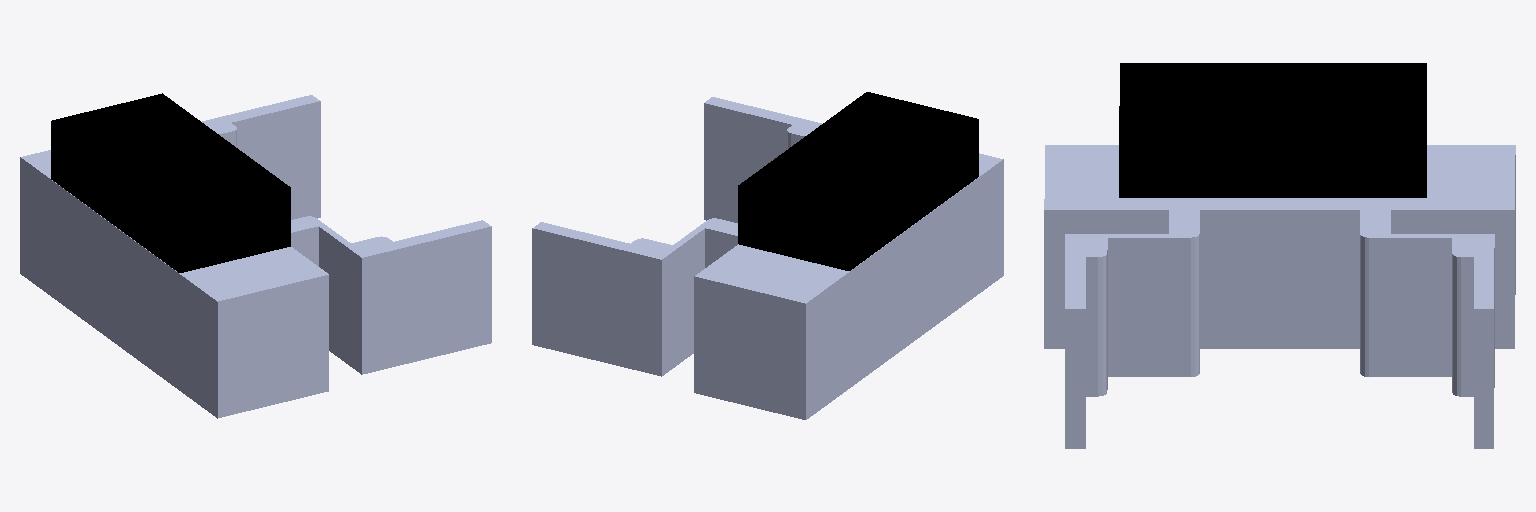
The robot description file, URDF, robot "kuka_kr10r1420":
<?xml version="1.0" ?>
<robot name="kuka_kr10r1420">

<!--LINKS-->

<!--Base link-->
<link name="base_link">
    <visual>
        <origin rpy="0 0 0" xyz="0 0 0" />
        <geometry>
            <mesh filename="package://kuka_kr10_support/meshes/kr10r1420/visual/base_link.stl" />
        </geometry>
        <material name="">
            <color rgba="0.054901960784313725 0.054901960784313725 0.06274509803921569 1.0" />
        </material>
    </visual>
    <collision>
        <origin rpy="0 0 0" xyz="0 0 0" />
        <geometry>
            <mesh filename="package://kuka_kr10_support/meshes/kr10r1420/collision/base_link.stl" />
        </geometry>
    </collision>        
    <inertial>
        <mass value="52.6664" />
        <origin rpy="0 0 0" xyz="-0.024332 -0.000227 0.124659" />
        <inertia ixx="0.6474" iyy="-0.002261" izz="-0.0148" ixy="0.8089" ixz="-0.0005985" iyz="0.8872" />
    </inertial>
</link>  

<!--Link 1-->
<link name="link_1">
    <visual>
        <origin rpy="0 0 0" xyz="0 0 0" />
        <geometry>
            <mesh filename="package://kuka_kr10_support/meshes/kr10r1420/visual/link_1.stl" />
        </geometry>
        <material name="">
            <color rgba="0.9647058823529412 0.47058823529411764 0.1568627450980392 1.0" />
        </material>
    </visual>
    <collision>
        <origin rpy="0 0 0" xyz="0 0 0" />
        <geometry>
            <mesh filename="package://kuka_kr10_support/meshes/kr10r1420/collision/link_1.stl" />
        </geometry>
    </collision>
    <inertial>
        <mass value="64.7425" />
        <origin rpy="0 0 0" xyz="0.030634 0.027021 -0.054840" />
        <inertia ixx="1.0225" ixy="-0.008725" ixz="-0.02372" iyy="1.0808" iyz="-0.03267" izz="1.1400" />
    </inertial>
</link>

<!--Link 2-->
<link name="link_2">
    <visual>
        <origin rpy="0 0 0" xyz="0 0 0" />
        <geometry>
            <mesh filename="package://kuka_kr10_support/meshes/kr10r1420/visual/link_2.stl" />
        </geometry>
        <material name="">
            <color rgba="0.9647058823529412 0.47058823529411764 0.1568627450980392 1.0" />
        </material>
    </visual>
    <collision>
        <origin rpy="0 0 0" xyz="0 0 0" />
        <geometry>
            <mesh filename="package://kuka_kr10_support/meshes/kr10r1420/collision/link_2.stl" />
        </geometry>
    </collision>
    <inertial>
        <mass value="10.6532" />
        <origin rpy="0 0 0" xyz="0.268622 -0.135342 0.007101" />
        <inertia ixx="0.02242" ixy="0.009881" ixz="-0.001753" iyy="0.39866" iyz="0.0002086" izz="0.3909" />
    </inertial>
</link>

<!--Link 3-->
<link name="link_3">
    <visual>
        <origin rpy="0 0 0" xyz="0 0 0" />
        <geometry>
            <mesh filename="package://kuka_kr10_support/meshes/kr10r1420/visual/link_3.stl" />
        </geometry>
        <material name="">
            <color rgba="0.9647058823529412 0.47058823529411764 0.1568627450980392 1.0" />
        </material>
    </visual>
    <collision>
        <origin rpy="0 0 0" xyz="0 0 0" />
        <geometry>
            <mesh filename="package://kuka_kr10_support/meshes/kr10r1420/collision/link_3.stl" />
        </geometry>
    </collision>
    <inertial>
        <mass value="25.0907" />
        <origin rpy="0 0 0" xyz="0.101103 0.027129 0.001040" />
        <inertia ixx="0.1632" ixy="0.02016" ixz="-0.01753" iyy="0.3261" iyz="0.006974" izz="0.3974" />
    </inertial>
</link>

<!--Link 4-->
<link name="link_4">
    <visual>
        <origin rpy="0 0 0" xyz="0 0 0" />
        <geometry>
            <mesh filename="package://kuka_kr10_support/meshes/kr10r1420/visual/link_4.stl" />
        </geometry>
        <material name="">
            <color rgba="0.9647058823529412 0.47058823529411764 0.1568627450980392 1.0" />
        </material>
    </visual>
    <collision>
        <origin rpy="0 0 0" xyz="0 0 0" />
        <geometry>
            <mesh filename="package://kuka_kr10_support/meshes/kr10r1420/collision/link_4.stl" />
        </geometry>
    </collision>
    <inertial>
        <mass value="5.9403" />
        <origin rpy="0 0 0" xyz="0.494754 0.000046 0.000066" />
        <inertia ixx="0.01081" ixy="0.0001038" ixz="0.00002506" iyy="0.04533" iyz="0.00001522" izz="0.04716" />
    </inertial>
</link>

<!--Link 5-->
<link name="link_5">
    <visual>
        <origin rpy="0 0 0" xyz="0 0 0" />
        <geometry>
            <mesh filename="package://kuka_kr10_support/meshes/kr10r1420/visual/link_5.stl" />
        </geometry>
        <material name="">
            <color rgba="0.9647058823529412 0.47058823529411764 0.1568627450980392 1.0" />
        </material>
    </visual>
    <collision>
        <origin rpy="0 0 0" xyz="0 0 0" />
        <geometry>
            <mesh filename="package://kuka_kr10_support/meshes/kr10r1420/collision/link_5.stl" />
        </geometry>
    </collision>
    <inertial>
        <mass value="0.8788" />
        <origin rpy="0 0 0" xyz="0.015795 0.001915 -0.000032" />
        <inertia ixx="0.0006327" ixy="0.000030398" ixz="0.0000006177" iyy="0.0010503" iyz="0.0000006576" izz="0.00111801" />
    </inertial>
</link>

<!--Link 6-->
<link name="link_6">
    <visual>
        <origin rpy="0 0 0" xyz="0 0 0" />
        <geometry>
            <mesh filename="package://kuka_kr10_support/meshes/kr10r1420/visual/link_6.stl" />
        </geometry>
        <material name="">
            <color rgba="0.5058823529411764 0.47058823529411764 0.38823529411764707 1.0" />
        </material>
    </visual>
    <collision>
        <origin rpy="0 0 0" xyz="0 0 0" />
        <geometry>
            <mesh filename="package://kuka_kr10_support/meshes/kr10r1420/collision/link_6.stl" />
        </geometry>
    </collision>
    <inertial>
        <mass value="0.0279" />
        <origin rpy="0 0 0" xyz="-0.007515 0.000002 0.000043" />
        <inertia ixx="0.000006018" ixy="0.0" ixz="0.0" iyy="0.0000034076" iyz="0.0" izz="0.0000034076" />
    </inertial>
</link>

<!--Gripper Fixture-->
<link name="link_fixture">
    <inertial>
        <origin xyz="0.057944 0.006208 0.11949" rpy="0 0 0" />
        <mass value="0.006525" />
        <inertia ixx="3.2773E-05" ixy="-2.4774E-05" ixz="-9.3928E-06" iyy="6.0916E-05" iyz="-1.1663E-05" izz="8.1409E-05" />
    </inertial>
    <visual>
        <origin xyz="0 0 0" rpy="0 0 0" />
        <geometry>
        <mesh filename="package://kuka_kr10_support/meshes/kr10r1420/visual/fixture.stl" />
        </geometry>
        <material name="">
        <color rgba="0.79216 0.81961 0.93333 1" />
        </material>
    </visual>
    <collision>
        <origin
        xyz="0 0 0"
        rpy="0 0 0" />
        <geometry>
        <mesh filename="package://kuka_kr10_support/meshes/kr10r1420/visual/fixture.stl" />
        </geometry>
    </collision>
</link>

<!--Base of gripper-->
<link name="gripper_base">
  <inertial>
    <origin xyz="0.0201419011343415 -0.14488421675524 0.0596507179811779" rpy="0 0 0"/>
    <mass value="0.3825" />
    <inertia ixx="0.000159375" ixy="0" ixz="0" iyy="0.000825849375" iyz="0" izz="0.000825849375" />
  </inertial>
  <visual>
    <origin xyz="0 0 0" rpy="0 0 0" />
    <geometry>
      <mesh filename="package://kuka_kr10_support/meshes/kr10r1420/visual/gripper_base.STL" />
    </geometry>
    <material name="">
      <color rgba="0.792156862745098 0.819607843137255 0.933333333333333 1" />
    </material>
  </visual>
  <collision>
    <origin xyz="0 0 0" rpy="0 0 0" />
    <geometry>
      <mesh filename="package://kuka_kr10_support/meshes/kr10r1420/visual/gripper_base.STL" />
    </geometry>
  </collision>
</link>

<!--Left finger-->
<link name="finger_left">
  <inertial>
    <origin xyz="-0.028124 -0.010692 0.025" rpy="0 0 0" />
    <mass value="0.039517" />
    <inertia ixx="2.4456E-05" ixy="-9.1518E-06" ixz="9.6198E-22" iyy="1.7547E-05" iyz="1.5479E-21" izz="2.5537E-05" />
  </inertial>
  <visual>
    <origin xyz="0 0 0" rpy="0 0 0" />
    <geometry>
      <mesh filename="package://kuka_kr10_support/meshes/kr10r1420/visual/finger_left.STL" />
    </geometry>
    <material name="">
      <color rgba="0.79216 0.81961 0.93333 1" />
    </material>
  </visual>
  <collision>
    <origin xyz="0 0 0" rpy="0 0 0" />
    <geometry>
      <mesh filename="package://kuka_kr10_support/meshes/kr10r1420/visual/finger_left.STL" />
    </geometry>
  </collision>
</link>

<!--Right finger-->
<link name="finger_right">
  <inertial>
    <origin xyz="-0.028124 -0.010692 0.025" rpy="0 0 0"/>
    <mass value="0.039517" />
    <inertia ixx="2.4456E-05" ixy="-9.1518E-06" ixz="0" iyy="1.7547E-05" iyz="0" izz="2.5537E-05" />
  </inertial>
  <visual>
    <origin xyz="0 0 0" rpy="0 0 0" />
    <geometry>
      <mesh filename="package://kuka_kr10_support/meshes/kr10r1420/visual/finger_right.STL" />
    </geometry>
    <material name="">
      <color rgba="0.79216 0.81961 0.93333 1" />
    </material>
  </visual>
  <collision>
    <origin xyz="0 0 0" rpy="0 0 0" />
    <geometry>
      <mesh filename="package://kuka_kr10_support/meshes/kr10r1420/visual/finger_right.STL" />
    </geometry>
  </collision>
</link>

<link name="flange" />
<link name="world" />
<link name="camera_depth_frame" />
<link name="camera_rgb_frame" />
<link name="tool0" />

<!--Camera Link-->
<link name="camera_link">
  <inertial>
      <origin rpy="0 0 0" xyz="0.5 0.05 0.005"/>
      <mass value="0.00045562499999999995"/>
      <inertia ixx="0.000000111" ixy="0.0" ixz="0.0" iyy="0.00000627" iyz="-0.0" izz="0.0000067"/>
  </inertial>
  <visual>
      <origin rpy="0 0 0" xyz="0.0 0 0"/>
      <geometry>
        <box size="0.1 0.05 0.025"/>
      </geometry>
      <material name="black">
        <color rgba="0 0 0 1"/>
    </material>
  </visual>
  <collision>
      <origin rpy="0 0 0" xyz="0.0 0.0 0.0"/>
      <geometry>
        <box size="0.1 0.1 0.05"/>
      </geometry>
  </collision>
</link>


<!--JOINTS-->
<!--Arm joints-->
<joint name="joint_a1" type="revolute">
    <origin rpy="0 0 0" xyz="0 0 0.450" />
    <parent link="base_link" />
    <child link="link_1" />
    <axis xyz="0 0 -1" />
    <dynamics damping="0.1" friction="150"/>
    <limit effort="300" lower="-2.9670597283903604" upper="2.9670597283903604" velocity="3.839724354387525" />
</joint>
<joint name="joint_a2" type="revolute">
    <origin rpy="0 0 0" xyz="0.150 0 0" />
    <parent link="link_1" />
    <child link="link_2" />
    <axis xyz="0 1 0" />
    <limit effort="1500" lower="-3.2288591161895095" upper="1.1344640137963142" velocity="3.6651914291880923" />
    <dynamics damping="100.0" friction="1500"/>
</joint>
<joint name="joint_a3" type="revolute">
    <origin rpy="0 0 0" xyz="0.610 0 0" />
    <parent link="link_2" />
    <child link="link_3" />
    <axis xyz="0 1 0" />
    <limit effort="300" lower="-2.3911010752322315" upper="2.8448866807507573" velocity="4.71238898038469" />
    <dynamics damping="0.1" friction="150"/>
</joint>
<joint name="joint_a4" type="revolute">
    <origin rpy="0 0 0" xyz="0 0 0.02" />
    <parent link="link_3" />
    <child link="link_4" />
    <axis xyz="-1 0 0" />
    <limit effort="300" lower="-3.2288591161895095" upper="3.2288591161895095" velocity="6.649704450098396" />
    <dynamics damping="0.1" friction="150"/>
</joint>
<joint name="joint_a5" type="revolute">
    <origin rpy="0 0 0" xyz="0.660 0 0" />
    <parent link="link_4" />
    <child link="link_5" />
    <axis xyz="0 1 0" />
    <limit effort="600" lower="-2.0943951023931953" upper="2.0943951023931953" velocity="5.427973973702365" />
    <dynamics damping="0.1" friction="150"/>
</joint>
<joint name="joint_a6" type="revolute">
    <origin rpy="0 0 0" xyz="0.080 0 0" />
    <parent link="link_5" />
    <child link="link_6" />
    <axis xyz="-1 0 0" />
    <limit effort="300" lower="-6.1086523819801535" upper="6.1086523819801535" velocity="8.587019919812102" />
    <dynamics damping="0.1" friction="28"/>
</joint>
<joint name="joint_a6-flange" type="fixed">
    <parent link="link_6" />
    <child link="flange" />
    <origin rpy="0 0 0" xyz="0 0 0" />
</joint>

<!--Gripper joints-->
<joint name="joint_fixture" type="fixed">
    <origin rpy="0 0 1.57" xyz="0 0 0" />
    <parent link="link_6" />
    <child link="link_fixture" />
    <axis xyz="-1 0 0" />
</joint>
<joint name="joint_gripper" type="fixed">
    <origin rpy="0 0 0" xyz="-0.02 0.118 -0.06"  />
    <parent link="link_fixture" />
    <child link="gripper_base" />
    <axis xyz="-1 0 0" />
</joint>
<joint name="joint_left" type="prismatic">
  <origin xyz="-0.0058581 -0.19138 0.034651" rpy="0 0 0" />
  <parent link="gripper_base"/>
  <child link="finger_left" />
  <axis xyz="1 0 0" /> 
  <limit lower="-0.025" upper="0.025" effort="10" velocity="6"/>
</joint>
<joint name="joint_right" type="prismatic">
  <origin xyz="0.046142 -0.19138 0.084651" rpy="-3.1416 0 3.1416" />
  <parent link="gripper_base"/>
  <child link="finger_right"/>
  <axis xyz="1 0 0"/>
  <limit lower="-0.025" upper="0.025" effort="10" velocity="6" />
</joint>


<!-- ROS base_link to KUKA $ROBROOT coordinate system transform -->
<joint name="base_link-base" type="fixed">
    <origin rpy="0 0 0" xyz="0 0 0" />
    <parent link="world" />
    <child link="base_link" />
</joint>


<!-- This frame corresponds to the $TOOL coordinate system in KUKA KRC controllers -->
<joint name="flange-tool0" type="fixed">
    <parent link="flange" />
    <child link="tool0" />
    <origin rpy="0 1.5707963267948966 0" xyz="0 0 0" />
</joint>

<!--Camera joint-->
<joint name="camera_joint" type="fixed">
    <origin rpy="0 0 0" xyz="0.018 -0.142 0.1"/>
    <parent link="gripper_base"/>
    <child link="camera_link"/>
</joint>

<joint name="camera_optical_joint" type="fixed">
    <origin xyz="0 0 0" rpy="1.57 0 1.57"/>
    <parent link="camera_link"/>
    <child link="camera_rgb_frame"/>
</joint>

<joint name="camera_depth_joint" type="fixed">
    <origin xyz="0 0 0" rpy="1.57 0 1.57"/>
    <parent link="camera_link"/>
    <child link="camera_depth_frame"/>
</joint>

<!--Transmission interface and actuators for all joints-->
<transmission name="trans_joint_a1">
    <type>transmission_interface/SimpleTransmission</type>
    <joint name="joint_a1">
        <hardwareInterface>hardware_interface/PositionJointInterface</hardwareInterface>
    </joint>
    <actuator name="joint_a1_motor">
        <hardwareInterface>hardware_interface/PositionJointInterface</hardwareInterface>
        <mechanicalReduction>1</mechanicalReduction>
    </actuator>
</transmission>
<transmission name="trans_joint_a2">
    <type>transmission_interface/SimpleTransmission</type>
    <joint name="joint_a2">
        <hardwareInterface>hardware_interface/PositionJointInterface</hardwareInterface>
    </joint>
    <actuator name="joint_a2_motor">
        <hardwareInterface>hardware_interface/PositionJointInterface</hardwareInterface>
        <mechanicalReduction>1</mechanicalReduction>
    </actuator>
</transmission>
<transmission name="trans_joint_a3">
    <type>transmission_interface/SimpleTransmission</type>
    <joint name="joint_a3">
        <hardwareInterface>hardware_interface/PositionJointInterface</hardwareInterface>
    </joint>
    <actuator name="joint_a3_motor">
        <hardwareInterface>hardware_interface/PositionJointInterface</hardwareInterface>
        <mechanicalReduction>1</mechanicalReduction>
    </actuator>
</transmission>
<transmission name="trans_joint_a4">
    <type>transmission_interface/SimpleTransmission</type>
    <joint name="joint_a4">
        <hardwareInterface>hardware_interface/PositionJointInterface</hardwareInterface>
    </joint>
    <actuator name="joint_a4_motor">
        <hardwareInterface>hardware_interface/PositionJointInterface</hardwareInterface>
        <mechanicalReduction>1</mechanicalReduction>
    </actuator>
</transmission>
<transmission name="trans_joint_a5">
    <type>transmission_interface/SimpleTransmission</type>
    <joint name="joint_a5">
        <hardwareInterface>hardware_interface/PositionJointInterface</hardwareInterface>
    </joint>
    <actuator name="joint_a5_motor">
        <hardwareInterface>hardware_interface/PositionJointInterface</hardwareInterface>
        <mechanicalReduction>1</mechanicalReduction>
    </actuator>
</transmission>
<transmission name="trans_joint_a6">
    <type>transmission_interface/SimpleTransmission</type>
    <joint name="joint_a6">
        <hardwareInterface>hardware_interface/PositionJointInterface</hardwareInterface>
    </joint>
    <actuator name="joint_a6_motor">
        <hardwareInterface>hardware_interface/PositionJointInterface</hardwareInterface>
        <mechanicalReduction>1</mechanicalReduction>
    </actuator>
</transmission>
<transmission name="trans_joint_gripper">
    <type>transmission_interface/SimpleTransmission</type>
    <joint name="joint_gripper">
        <hardwareInterface>hardware_interface/PositionJointInterface</hardwareInterface>
    </joint>
    <actuator name="joint_gripper_motor">
        <hardwareInterface>hardware_interface/PositionJointInterface</hardwareInterface>
        <mechanicalReduction>1</mechanicalReduction>
    </actuator>
</transmission>
<transmission name="trans_joint_left">
    <type>transmission_interface/SimpleTransmission</type>
    <joint name="joint_left">
        <hardwareInterface>hardware_interface/PositionJointInterface</hardwareInterface>
    </joint>
    <actuator name="joint_left_motor">
        <hardwareInterface>hardware_interface/PositionJointInterface</hardwareInterface>
        <mechanicalReduction>1</mechanicalReduction>
    </actuator>
</transmission>
<transmission name="trans_joint_right">
    <type>transmission_interface/SimpleTransmission</type>
    <joint name="joint_right">
        <hardwareInterface>hardware_interface/PositionJointInterface</hardwareInterface>
    </joint>
    <actuator name="joint_right_motor">
        <hardwareInterface>hardware_interface/PositionJointInterface</hardwareInterface>
        <mechanicalReduction>1</mechanicalReduction>
    </actuator>
</transmission>

<!--Gazebo ROS control-->
<gazebo>
    <plugin name="gazebo_ros_control" filename="libgazebo_ros_control.so">
        <robotNamespace>/kuka_arm</robotNamespace>
    </plugin>
</gazebo>


<gazebo reference="base_link">
    <material>Gazebo/Black</material>
    <mu1>0.1</mu1>
    <mu2>0.1</mu2>
    <static>true</static>
    <turnGravityOff>true</turnGravityOff>
    <selfCollide>true</selfCollide>
</gazebo>
<gazebo reference="link_1">
    <material>Gazebo/Orange</material>
    <mu1>0.1</mu1>
    <mu2>0.1</mu2>
    <selfCollide>true</selfCollide>
</gazebo>
<gazebo reference="link_2">
    <material>Gazebo/Orange</material>
    <mu1>0.1</mu1>
    <mu2>0.1</mu2>
    <selfCollide>true</selfCollide>
</gazebo>
<gazebo reference="link_3">
    <material>Gazebo/Orange</material>
    <mu1>0.1</mu1>
    <mu2>0.1</mu2>
    <selfCollide>true</selfCollide>
</gazebo>
<gazebo reference="link_4">
    <material>Gazebo/Orange</material>
    <mu1>0.1</mu1>
    <mu2>0.1</mu2>
    <selfCollide>true</selfCollide>
</gazebo>
<gazebo reference="link_5">
    <material>Gazebo/Orange</material>
    <mu1>0.1</mu1>
    <mu2>0.1</mu2>
    <selfCollide>true</selfCollide>
</gazebo>
<gazebo reference="link_6">
    <material>Gazebo/Orange</material>
    <mu1>0.1</mu1>
    <mu2>0.1</mu2>
    <selfCollide>true</selfCollide>
</gazebo>
<gazebo reference="gripper_base">
    <material>Gazebo/Black</material>
    <mu1>0.1</mu1>
    <mu2>0.1</mu2>
    <selfCollide>true</selfCollide>
</gazebo>
<gazebo reference="finger_right">
    <material>Gazebo/Grey</material>
    <mu1>0.1</mu1>
    <mu2>0.1</mu2>
    <selfCollide>true</selfCollide>
</gazebo>
<gazebo reference="finger_left">
    <material>Gazebo/Grey</material>
    <mu1>0.1</mu1>
    <mu2>0.1</mu2>
    <selfCollide>true</selfCollide>
</gazebo>


<!--Camera link with camera plugin-->
<gazebo reference="camera_link">
    <sensor type="depth" name="intelrealsense2">
        <always_on>1</always_on>
        <visualize>true</visualize>
        <camera>
        <horizontal_fov>1.047</horizontal_fov>
        <image>
            <width>640</width>
            <height>480</height>
            <format>R8G8B8</format>
        </image>
        <depth_camera>

        </depth_camera>
        <clip>
            <near>0.1</near>
            <far>100</far>
        </clip>
        </camera>
        <plugin name="intelrealsense" filename="libgazebo_ros_openni_kinect.so">
        <alwaysOn>true</alwaysOn>
        <updateRate>10.0</updateRate>
        <cameraName>camera</cameraName>
        <frameName>camera_depth_frame</frameName>
        <imageTopicName>/camera/color/image_raw</imageTopicName>
        <depthImageTopicName>/camera/depth/image_raw</depthImageTopicName>
        <pointCloudTopicName>depth/points</pointCloudTopicName>
        <cameraInfoTopicName>/camera/color/camera_info</cameraInfoTopicName>
        <depthImageCameraInfoTopicName>/camera/depth/camera_info</depthImageCameraInfoTopicName>
            <pointCloudCutoff>0.2</pointCloudCutoff>
            <pointCloudCutoffMax>10.0</pointCloudCutoffMax>
        <hackBaseline>0.07</hackBaseline>
        <distortionK1>0.0</distortionK1>
        <distortionK2>0.0</distortionK2>
        <distortionK3>0.0</distortionK3>
        <distortionT1>0.0</distortionT1>
        <distortionT2>0.0</distortionT2>
        <CxPrime>0.0</CxPrime>
        <Cx>0.0</Cx>
        <Cy>0.0</Cy>
        <focalLength>0.0</focalLength>
        </plugin>
    </sensor>
</gazebo>

</robot>

--- Facts derived from the render (not from the file) ---
The picture shows the robot from 3 angles, left to right: view 1: azimuth 30°, elevation 25°; view 2: azimuth 150°, elevation 25°; view 3: azimuth 270°, elevation 25°; orthographic projection.
Model kuka_kr10r1420 with 17 links and 16 joints (6 revolute, 2 prismatic, 8 fixed), rooted at world, posed every joint at zero.
Visible links, largest first — view 1: gripper_base, camera_link, finger_left, finger_right; view 2: gripper_base, camera_link, finger_right, finger_left; view 3: gripper_base, camera_link, finger_left, finger_right.
Link boxes in pixels (<box>): gripper_base: <box>20,150,328,418</box>; camera_link: <box>51,93,290,272</box>; finger_left: <box>291,216,491,374</box>; finger_right: <box>202,95,320,219</box>; gripper_base: <box>694,153,1003,419</box>; camera_link: <box>738,92,978,270</box>; finger_right: <box>532,218,737,376</box>; finger_left: <box>704,97,821,222</box>; gripper_base: <box>1044,145,1515,348</box>; camera_link: <box>1119,63,1426,197</box>; finger_left: <box>1065,210,1199,448</box>; finger_right: <box>1360,210,1494,448</box>.
Bounding box of the posed robot: 0.1295 × 0.153 × 0.0778 m (x, y, z).
3 mesh visuals loaded from 11 distinct referenced files (3 binary STL); not drawn: 8 (reference not matched to a file when rendering).